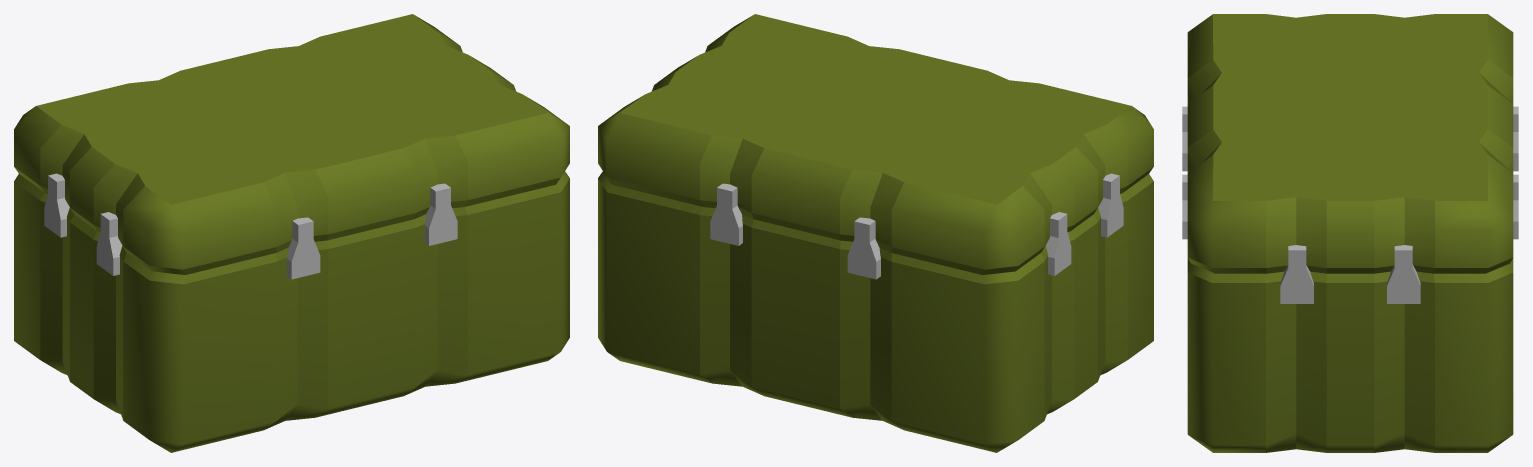
Rendered from ds_crates.glb.
3 renders of one model, left to right at view 1: azimuth 30°, elevation 25°; view 2: azimuth 150°, elevation 25°; view 3: azimuth 270°, elevation 25°, orthographic.
Parts seen in each view (by area): view 1: ds_crates; view 2: ds_crates; view 3: ds_crates.
Part boxes in pixels (x1,y1,x2,y2): ds_crates: (14,14,569,452); ds_crates: (598,14,1153,452); ds_crates: (1182,14,1518,452).
Bounding box in the file's own units: 1.41 × 0.7844 × 0.9475.
